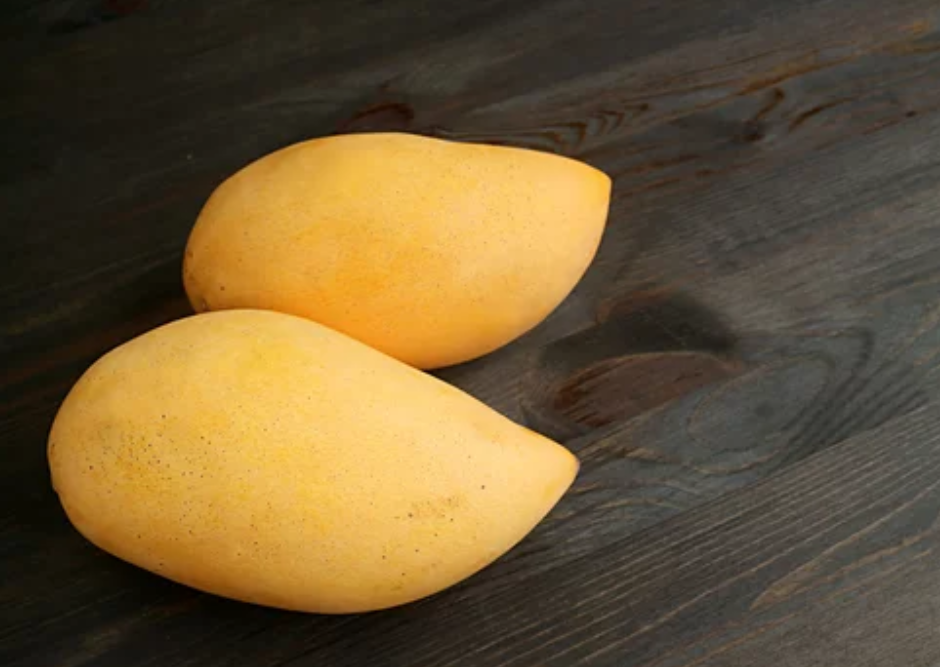mango: (50, 312, 583, 614), (180, 135, 615, 378)
